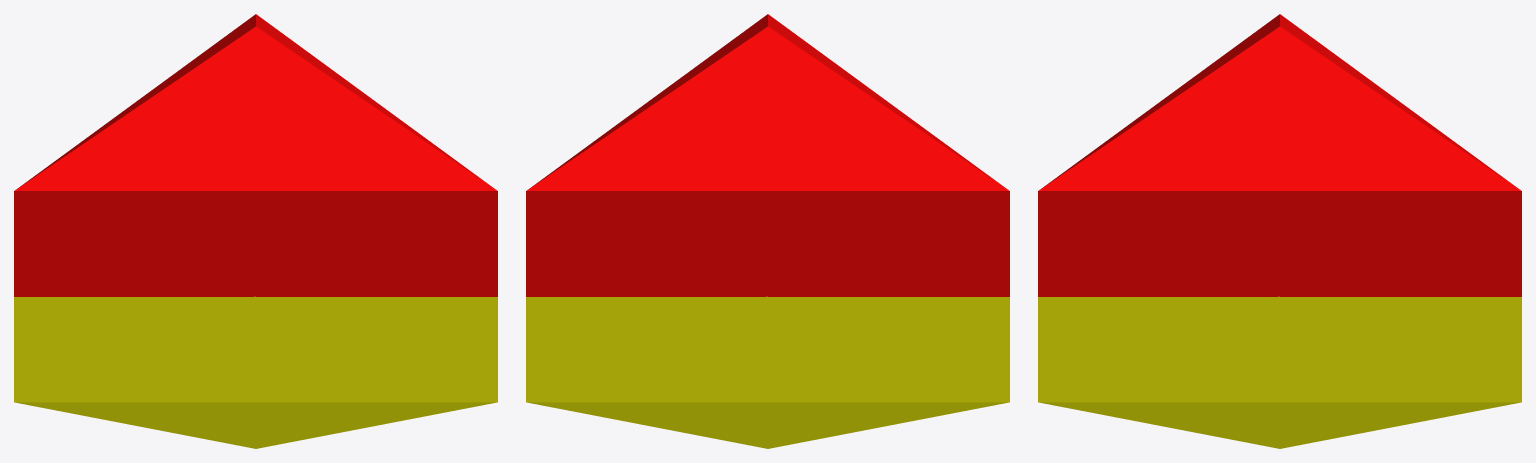
Rendered from eqp_fishing_float_l2.fbx.
3 renders of one model, left to right at view 1: azimuth 30°, elevation 25°; view 2: azimuth 150°, elevation 25°; view 3: azimuth 270°, elevation 25°, orthographic.
Visible parts, largest first — view 1: mesh_node; view 2: mesh_node; view 3: mesh_node.
Part boxes in pixels (box(x1,y1,x2,y2)): mesh_node: box(14, 14, 497, 448); mesh_node: box(526, 14, 1009, 448); mesh_node: box(1038, 14, 1521, 448).
Size of the model in its own units: 0.0562 by 0.0625 by 0.0649.
